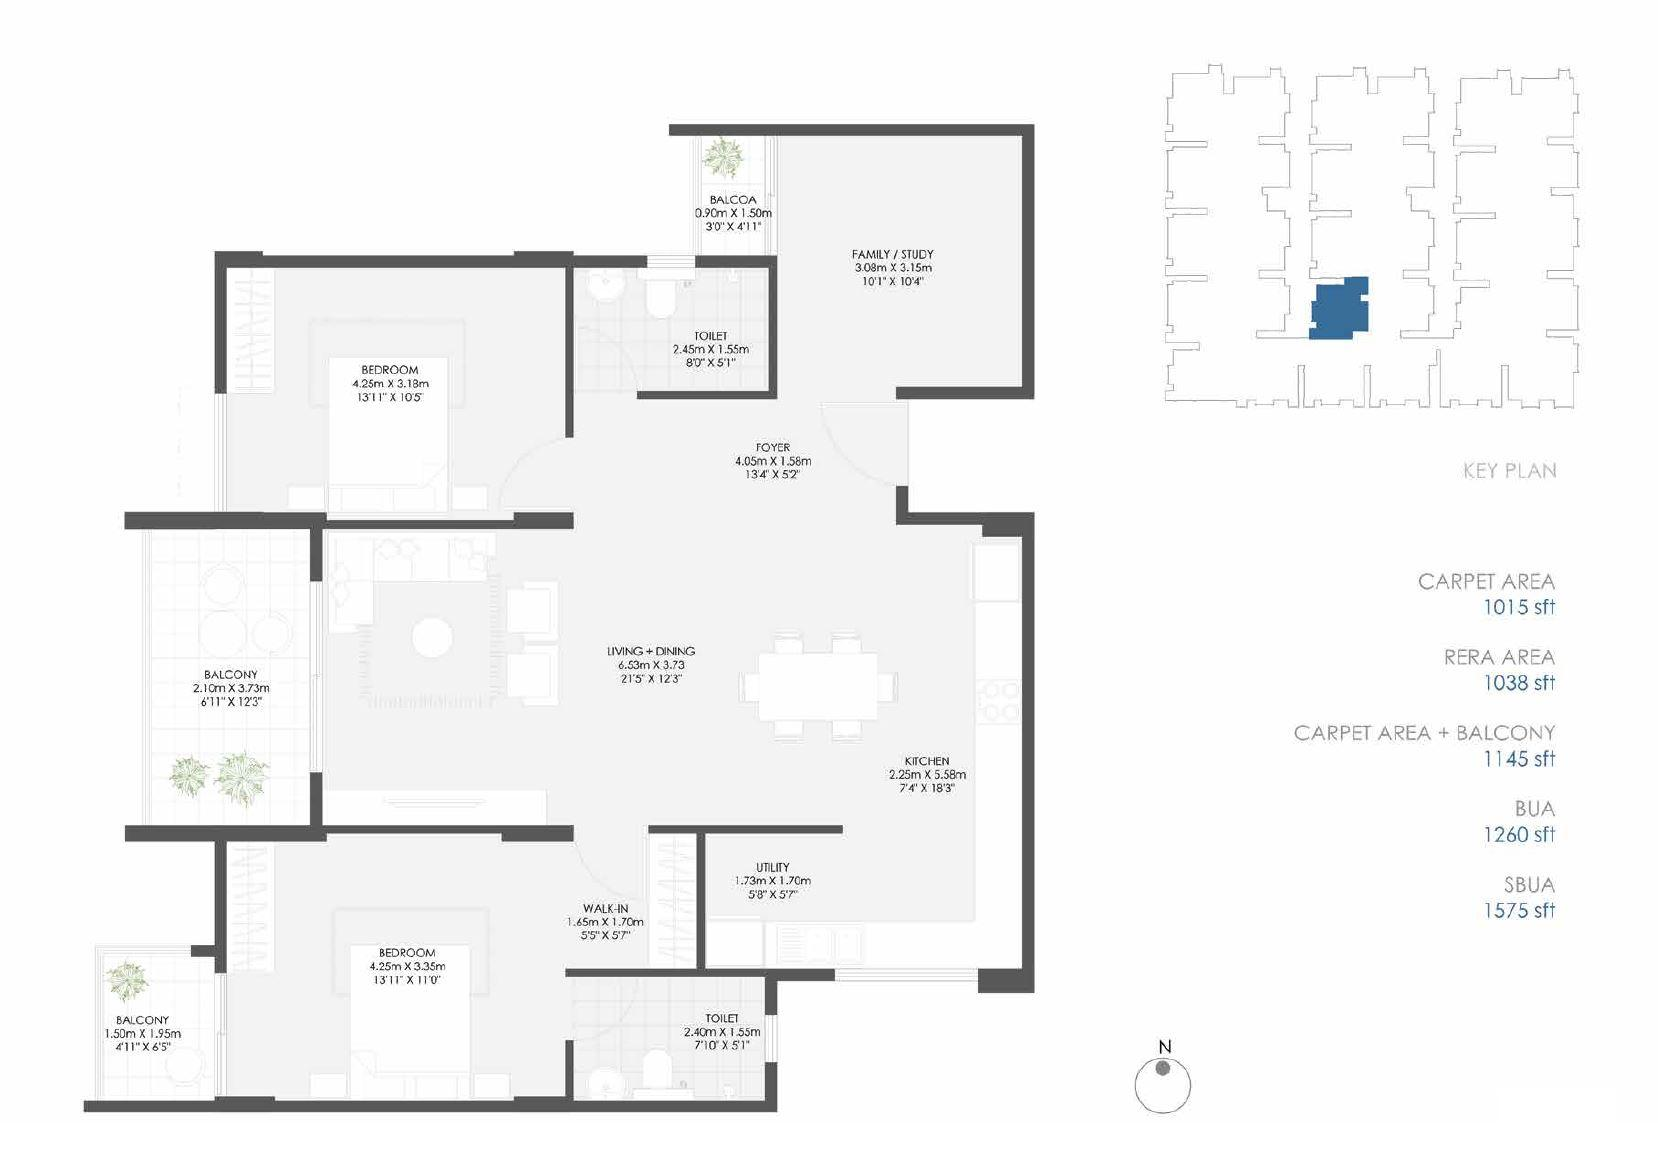Balcony: (146, 525, 309, 826)
Bed: (348, 944, 474, 1104), (331, 355, 447, 515)
Bedroom: (226, 839, 564, 1101), (226, 270, 564, 514)
Dining Room: (624, 525, 913, 816)
Dining table: (729, 624, 905, 750)
Foyer: (575, 401, 901, 519)
Kitchen: (860, 535, 1017, 971)
Living Room: (312, 528, 631, 821)
Sofa: (330, 535, 499, 582), (321, 530, 378, 630), (500, 646, 559, 711), (504, 579, 563, 634)
Wardrobe: (222, 840, 275, 974), (223, 268, 275, 401), (651, 836, 693, 964)
balcoa: (98, 952, 220, 1099), (694, 134, 774, 252)
commode: (639, 280, 680, 320), (641, 1053, 677, 1090)
door: (806, 404, 923, 489), (490, 438, 587, 522), (572, 824, 654, 912), (569, 319, 646, 397), (559, 976, 645, 1043)
kitchen-slab: (966, 598, 1023, 970), (762, 923, 1021, 969)
sink: (771, 922, 845, 965), (577, 1063, 625, 1104), (582, 263, 629, 304)
stove: (974, 680, 1021, 733)
study: (777, 134, 1023, 384)
toilet: (568, 974, 769, 1101), (571, 266, 771, 391)
tv: (372, 789, 496, 821)
utility: (704, 831, 844, 964)
